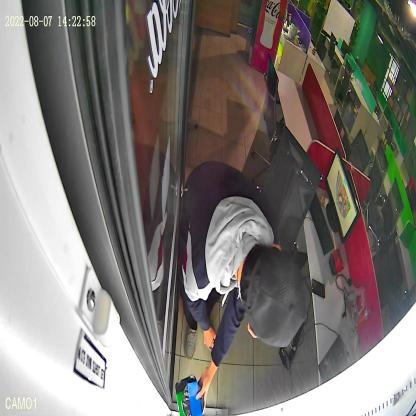blue: (181, 380, 204, 416)
green: (175, 374, 197, 416)
